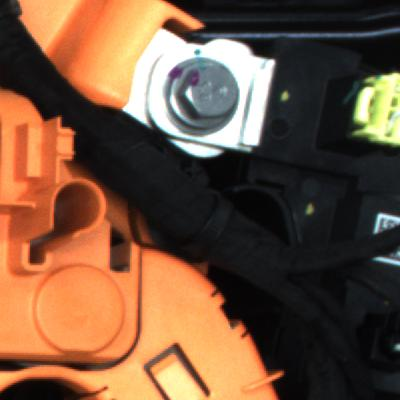nut_b: (161, 47, 261, 134)
